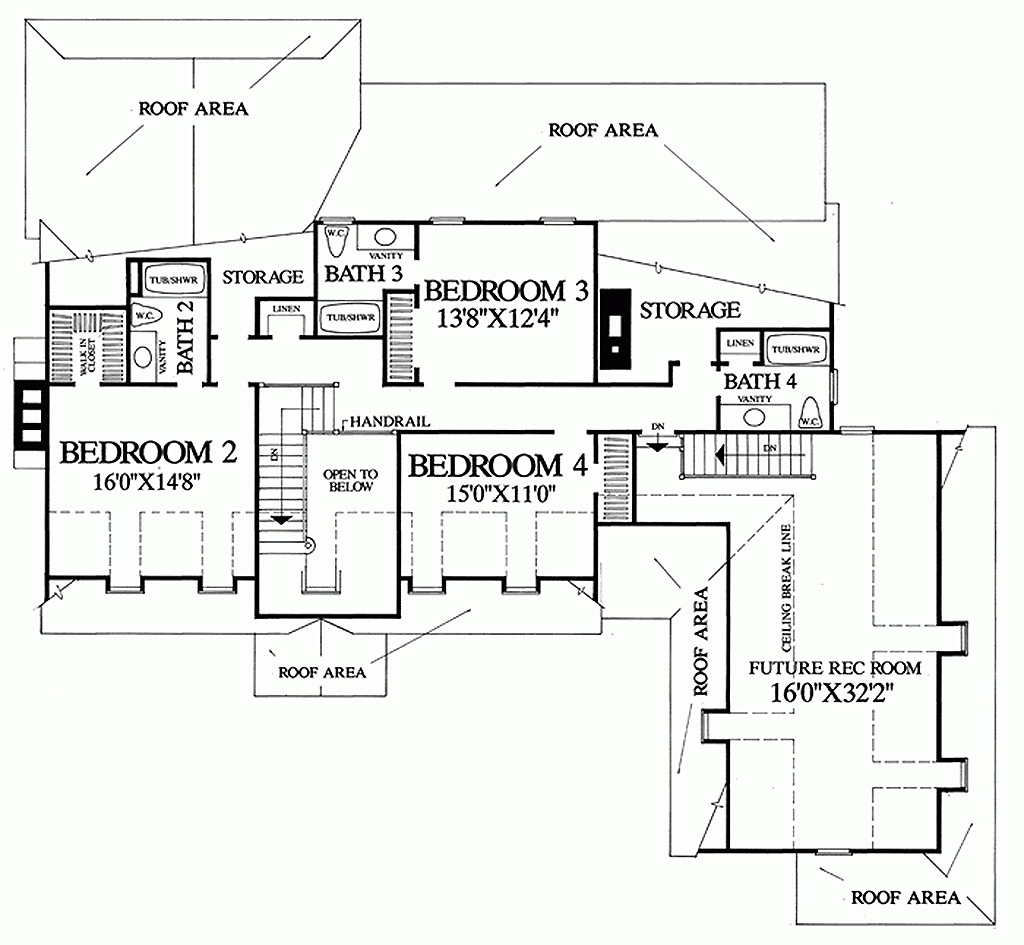large_sink: (314, 224, 355, 265), (123, 298, 165, 332), (798, 395, 827, 429)
small_sink: (719, 404, 795, 432), (356, 222, 419, 254), (129, 328, 162, 386)
stairs: (251, 383, 341, 562), (671, 431, 820, 484)
tub: (136, 257, 208, 301), (313, 300, 388, 342), (761, 331, 833, 366)
window: (533, 213, 579, 234), (424, 214, 472, 231), (956, 620, 974, 657), (196, 581, 234, 598), (302, 583, 341, 598), (101, 584, 147, 596), (406, 587, 452, 597), (960, 756, 970, 796), (500, 584, 537, 594)
